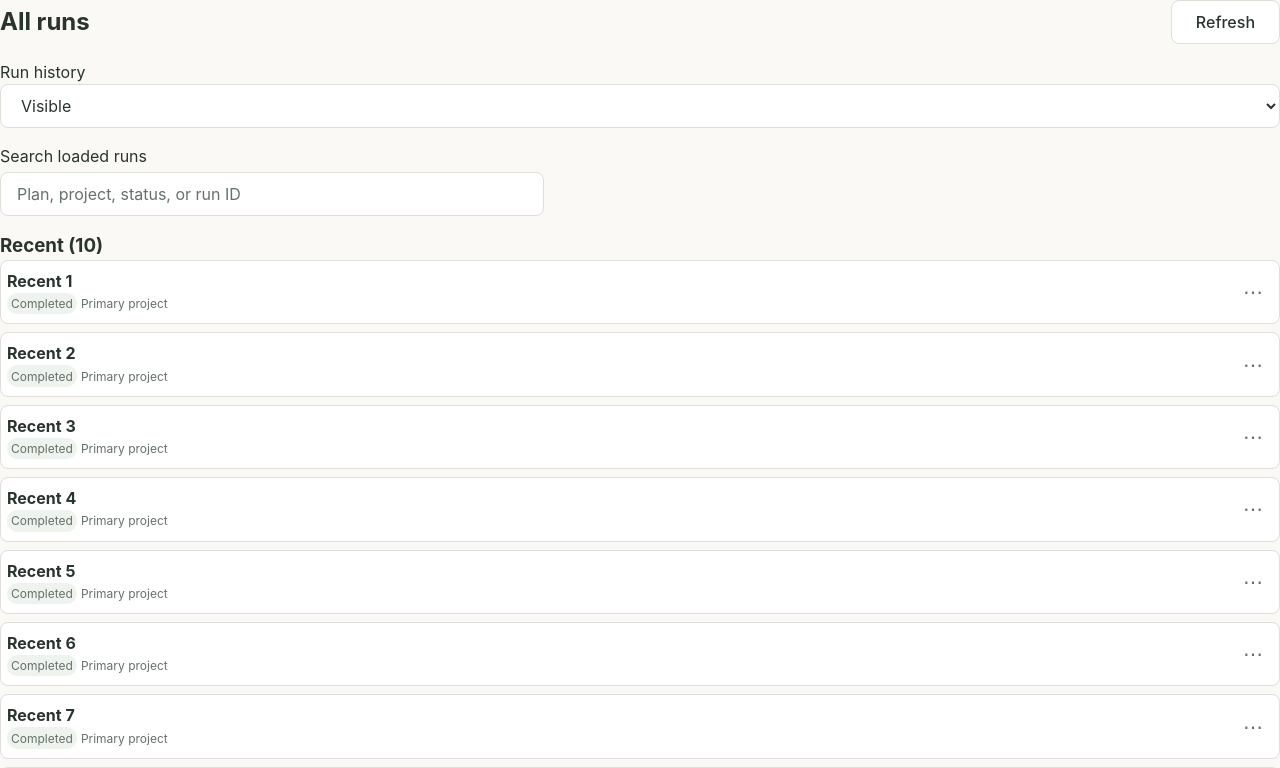
Test: GlobalRunOverview project context › searches a loaded recent run outside the recent display limit
Expected: the heading "Recent (10)" is shown, top-left (0, 234), bottom-right (103, 257)
Expected: the button "recent-11" is not shown
Type "recent-11" into the search field labelled "Search loaded runs" at coordinates (272, 194), box top-left (0, 172), bottom-right (544, 216)
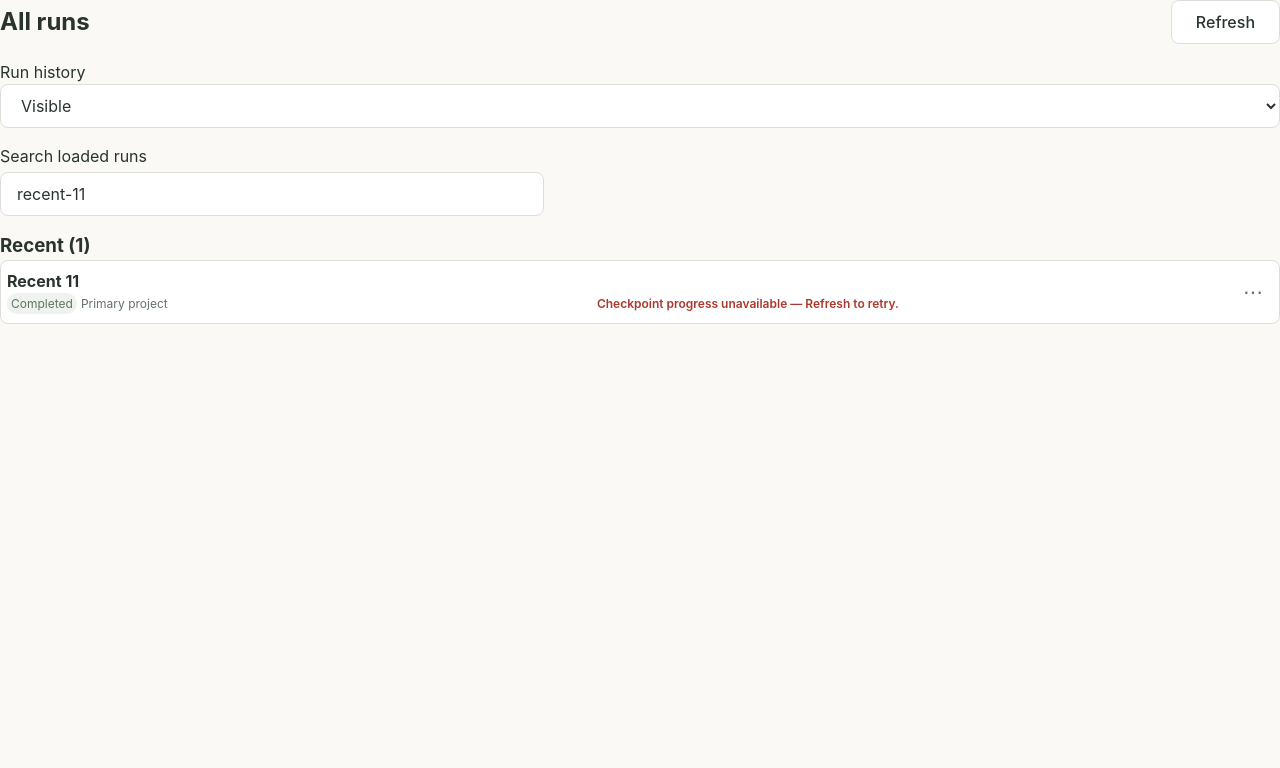
Now the button named "recent-11" is shown, box top-left (1, 261), bottom-right (1229, 324)
Now the heading "Recent (1)" is shown, box top-left (0, 234), bottom-right (90, 257)
